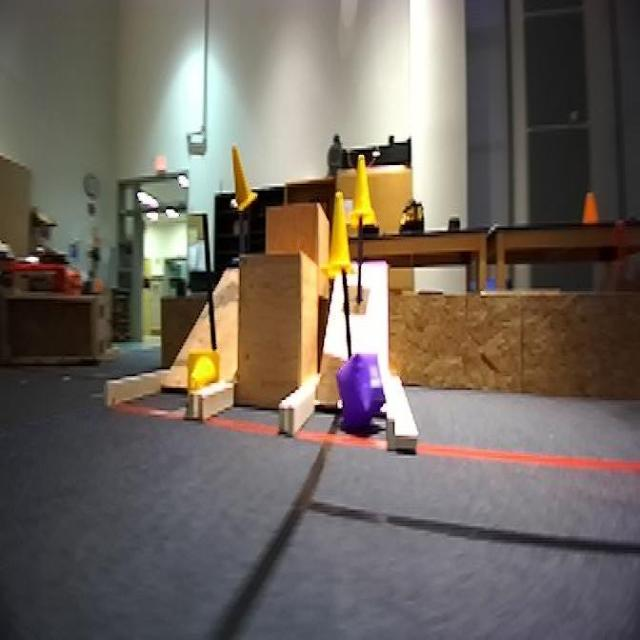frc_cone: (325, 196, 357, 281), (229, 141, 259, 211), (186, 349, 224, 398), (352, 152, 376, 220)
frc_cube: (334, 354, 389, 434)
